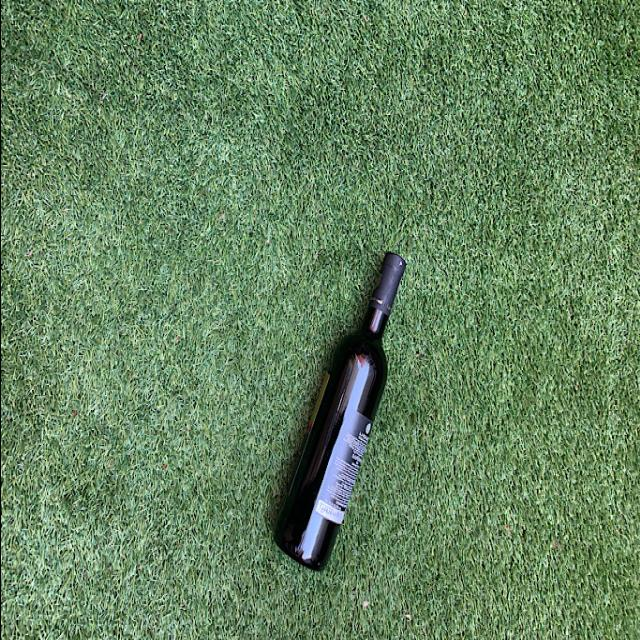Glass Bottle: (271, 242, 416, 576)
